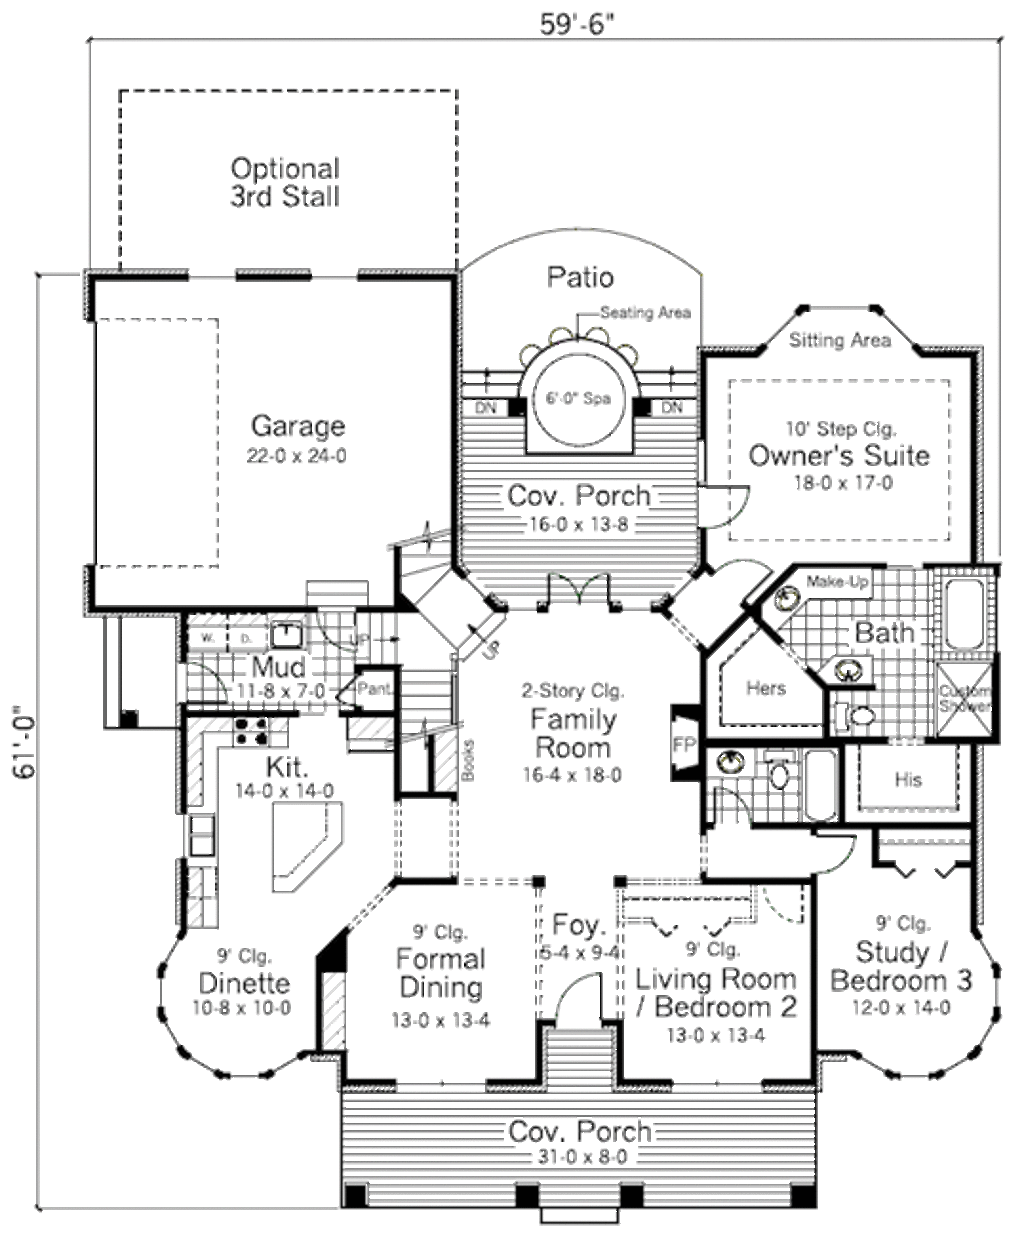door: (535, 565, 632, 623), (549, 967, 618, 1038), (312, 604, 374, 661), (709, 546, 772, 600), (689, 480, 757, 530), (172, 657, 230, 709), (810, 827, 866, 875), (764, 879, 816, 929), (714, 788, 762, 829)
kitchen_bar: (253, 782, 368, 902)
large_sink: (834, 698, 885, 742), (760, 748, 797, 805)
sink: (266, 605, 312, 655)
small_sink: (762, 567, 822, 625), (707, 744, 764, 792), (834, 650, 874, 684), (814, 652, 878, 654)
stairs: (401, 540, 484, 804)
tub: (930, 563, 1009, 663), (807, 750, 847, 827)
